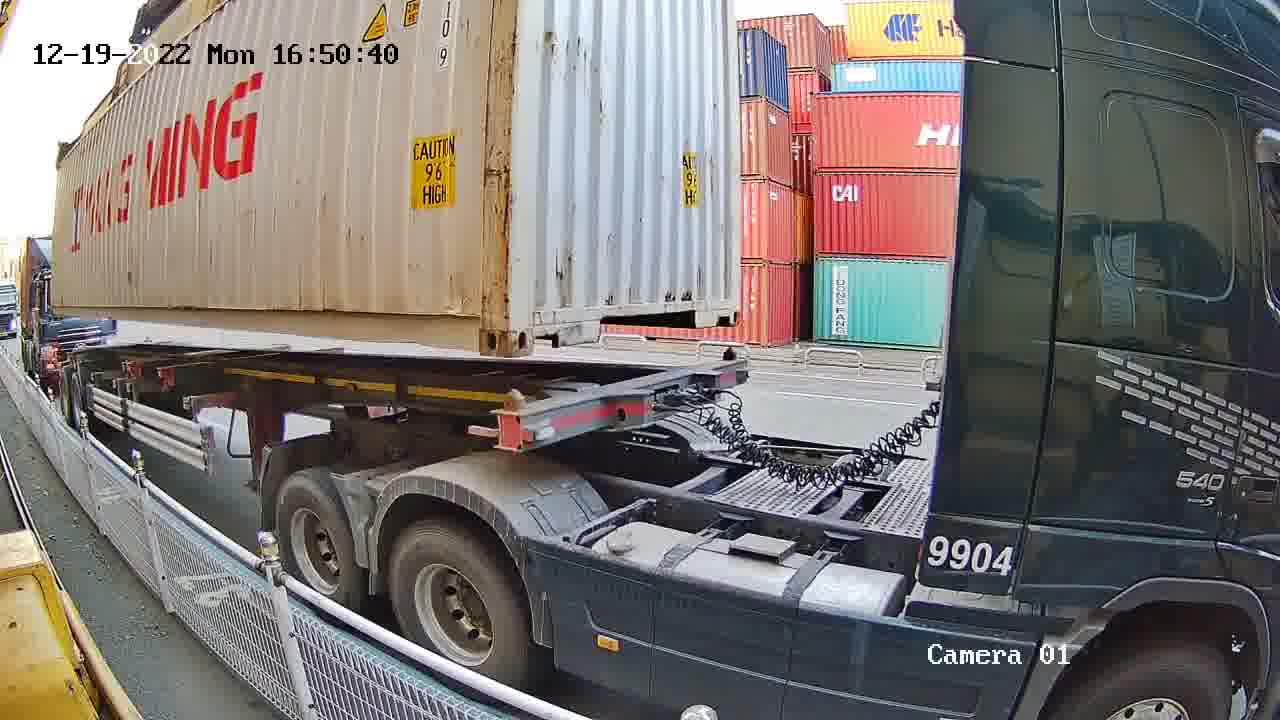Chassis: (492, 359, 745, 449)
Cone: (498, 389, 526, 453), (719, 345, 739, 365)
Hole_L: (510, 298, 562, 355)
Hole_R: (443, 298, 509, 358), (706, 284, 742, 327)
Tire: (388, 522, 523, 680), (274, 480, 356, 602)
